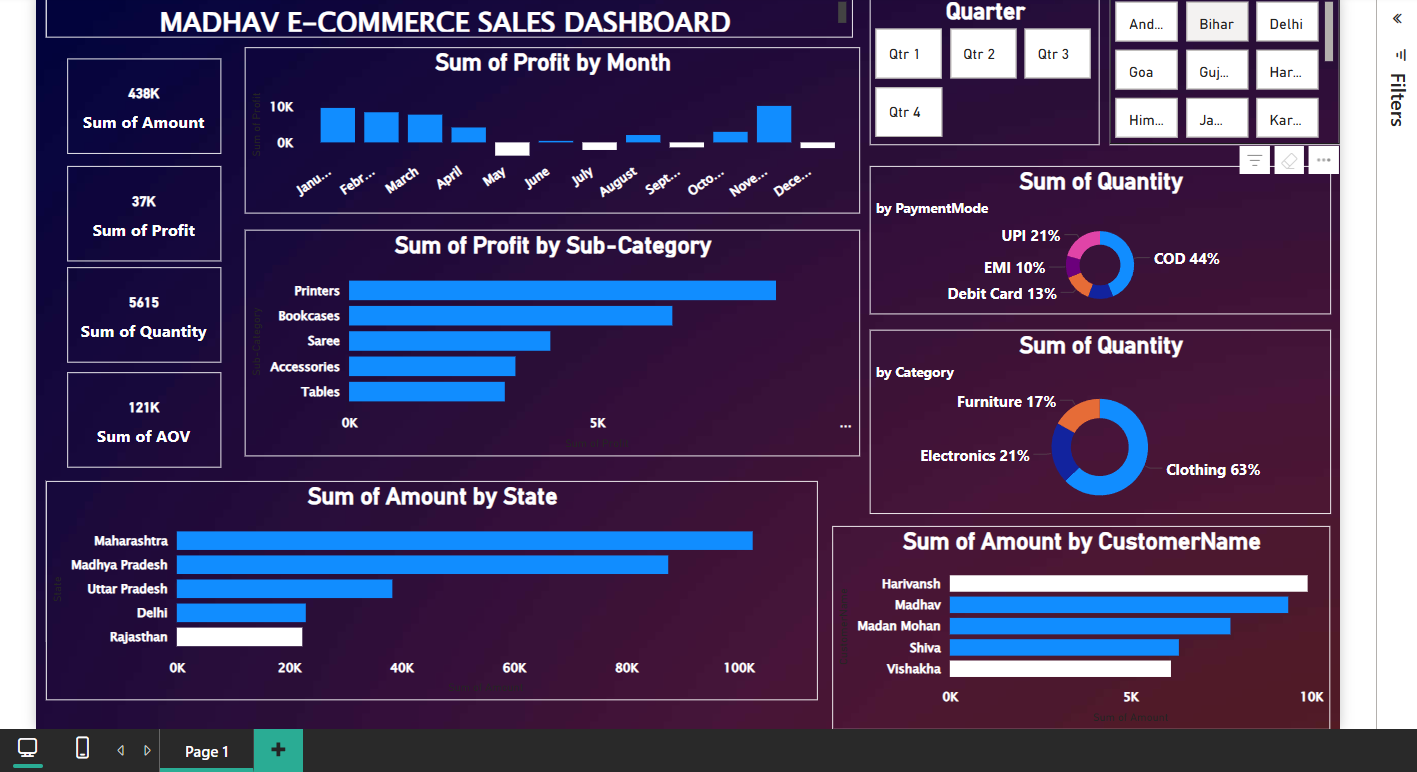

The page's visual inventory and layout, read from the dashboard file:
{"tool":"powerbi","page":{"name":"Page 1","canvas":[1280,720],"ordinal":0},"visuals":[{"type":"textbox","box":[9.6,0,791.8,41.2],"z":0},{"type":"columnChart","fields":{"Category":["Orders.Order Date.Variation.Date Hierarchy.Month"],"Y":["Details.Profit"]},"box":[204.5,50.8,603.8,163.3],"z":1000},{"type":"barChart","fields":{"Category":["Details.Sub-Category"],"Y":["Details.Profit"]},"box":[204.5,229.2,603.8,222.3],"z":2000},{"type":"donutChart","fields":{"Category":["Details.Category"],"Y":["Details.Quantity"]},"box":[817.8,328,452.8,181.1],"z":3000},{"type":"donutChart","fields":{"Y":["Details.Quantity"],"Series":["Details.PaymentMode"]},"box":[817.8,167.4,452.8,145.5],"z":4000},{"type":"card","fields":{"Values":["Details.Amount"]},"box":[30.2,61.7,150.9,93.3],"z":5000},{"type":"card","fields":{"Values":["Details.Profit"]},"box":[30.2,167.4,150.9,93.3],"z":6000},{"type":"card","fields":{"Values":["Details.Quantity"]},"box":[30.2,266.2,150.9,93.3],"z":7000},{"type":"card","fields":{"Values":["Details.AOV"]},"box":[30.2,369.1,150.9,93.3],"z":8000},{"type":"barChart","fields":{"Category":["Orders.State"],"Y":["Details.Amount"]},"box":[9.6,476.2,757.5,215.4],"z":9000},{"type":"barChart","fields":{"Category":["Orders.CustomerName"],"Y":["Details.Amount"]},"box":[782.2,520.1,488.5,200.3],"z":10000},{"type":"advancedSlicerVisual","fields":{"Values":["Orders.Order Date.Variation.Date Hierarchy.Quarter"]},"box":[818.4,0,225.8,146],"z":11000},{"type":"advancedSlicerVisual","fields":{"Values":["Orders.State"]},"box":[1054,0,225.8,146],"z":12000}]}

Visuals, with their boxes on the page's 1280x720 design canvas (x1, y1, x2, y2). These are canvas units, not pixel positions in the 1417x772 screenshot, which may show the page scaled, cropped or inside an application window:
textbox: x1=10, y1=0, x2=801, y2=41
columnChart - Orders.Order Date.Variation.Date Hierarchy.Month x Details.Profit: x1=204, y1=51, x2=808, y2=214
barChart - Details.Sub-Category x Details.Profit: x1=204, y1=229, x2=808, y2=452
donutChart - Details.Category x Details.Quantity: x1=818, y1=328, x2=1271, y2=509
donutChart - Details.Quantity x Details.PaymentMode: x1=818, y1=167, x2=1271, y2=313
card - Details.Amount: x1=30, y1=62, x2=181, y2=155
card - Details.Profit: x1=30, y1=167, x2=181, y2=261
card - Details.Quantity: x1=30, y1=266, x2=181, y2=360
card - Details.AOV: x1=30, y1=369, x2=181, y2=462
barChart - Orders.State x Details.Amount: x1=10, y1=476, x2=767, y2=692
barChart - Orders.CustomerName x Details.Amount: x1=782, y1=520, x2=1271, y2=720
advancedSlicerVisual - Orders.Order Date.Variation.Date Hierarchy.Quarter: x1=818, y1=0, x2=1044, y2=146
advancedSlicerVisual - Orders.State: x1=1054, y1=0, x2=1280, y2=146
